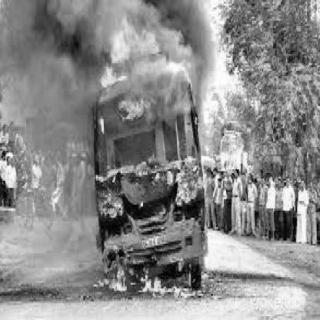Fire: (94, 266, 130, 294)
